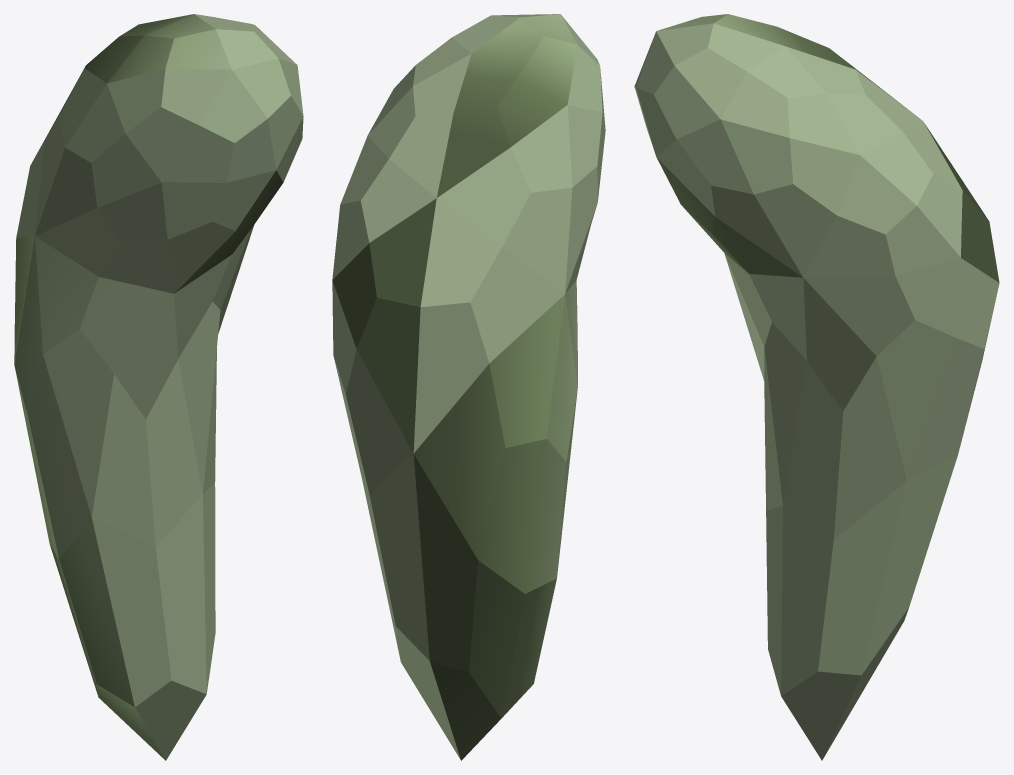
The model's file is EA_Swamp_Liana_05c.glb.
3 views of the same model, side by side, from view 1: azimuth 30°, elevation 25°; view 2: azimuth 150°, elevation 25°; view 3: azimuth 270°, elevation 25° (orthographic). The views are drawn at different scales.
Parts seen in each view (by area): view 1: EA_Swamp_Liana_05c; view 2: EA_Swamp_Liana_05c; view 3: EA_Swamp_Liana_05c.
Part boxes in pixels (x1,y1,x2,y2): EA_Swamp_Liana_05c: (14, 14, 303, 760); EA_Swamp_Liana_05c: (332, 14, 605, 760); EA_Swamp_Liana_05c: (634, 14, 999, 760).
Size of the model in its own units: 0.7245 by 2.34 by 1.06.
Materials: 1 (1 with a texture image).
